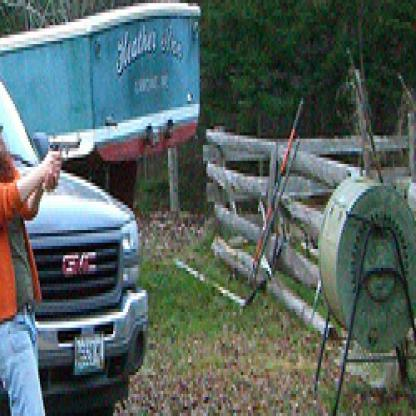gun: (47, 129, 83, 186)
